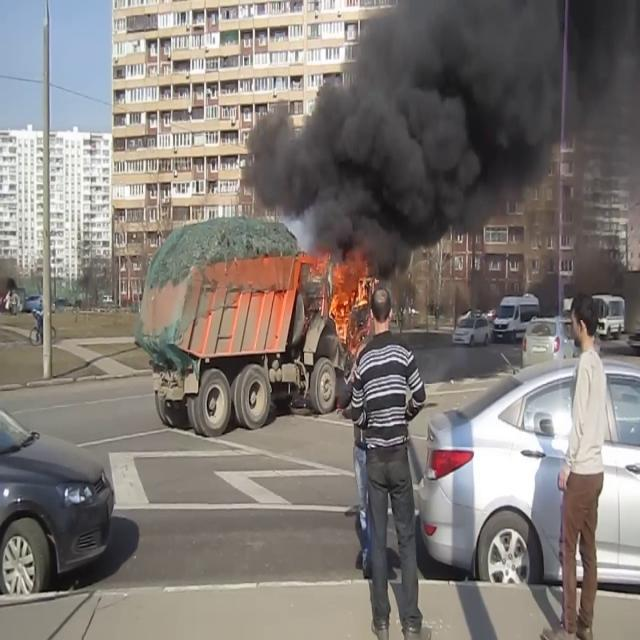Fire: (326, 253, 381, 348)
Smoke: (240, 1, 640, 267)
